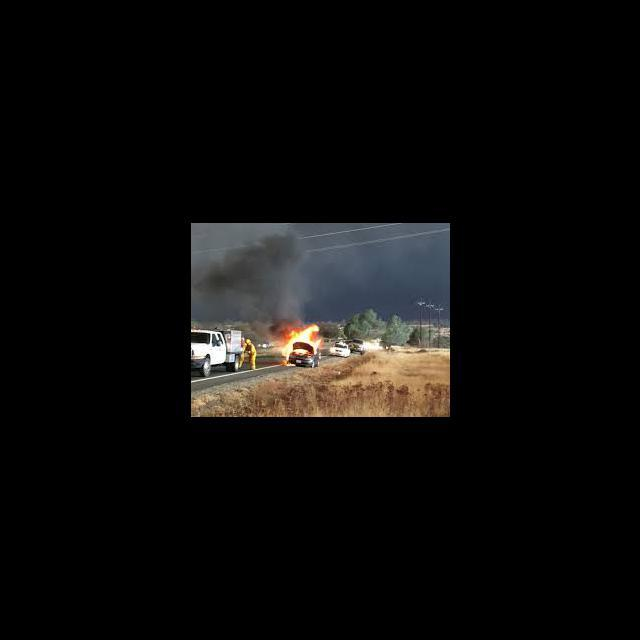Fire: (280, 319, 324, 368)
Smoke: (194, 225, 311, 318)
